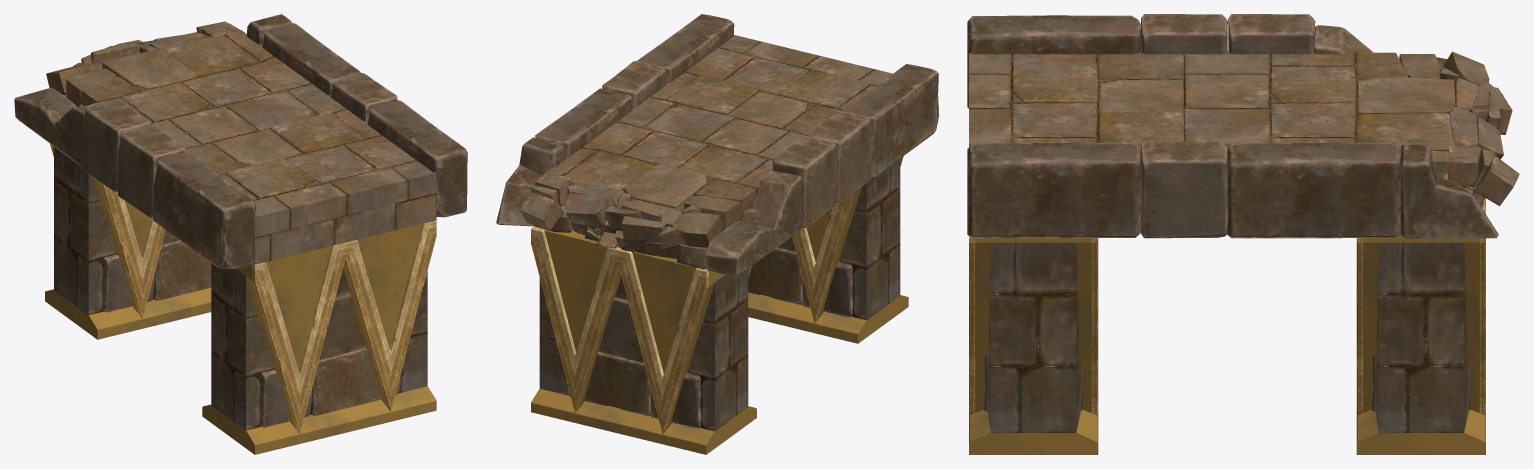
The picture shows the model from 3 angles, left to right: view 1: azimuth 30°, elevation 25°; view 2: azimuth 150°, elevation 25°; view 3: azimuth 270°, elevation 25°; orthographic projection. The views are drawn at different scales.
Visible parts, largest first — view 1: SM_DK_Bridge_8m_01v2_LOD0; view 2: SM_DK_Bridge_8m_01v2_LOD0; view 3: SM_DK_Bridge_8m_01v2_LOD0.
Boxes of the visible parts, x1,y1,x2,y2 form: SM_DK_Bridge_8m_01v2_LOD0: [14, 14, 467, 454]; SM_DK_Bridge_8m_01v2_LOD0: [496, 14, 938, 454]; SM_DK_Bridge_8m_01v2_LOD0: [967, 14, 1519, 454].
Bounding box in the file's own units: 5.47 × 5.36 × 8.54.
Materials: 6 (6 with a texture image).
